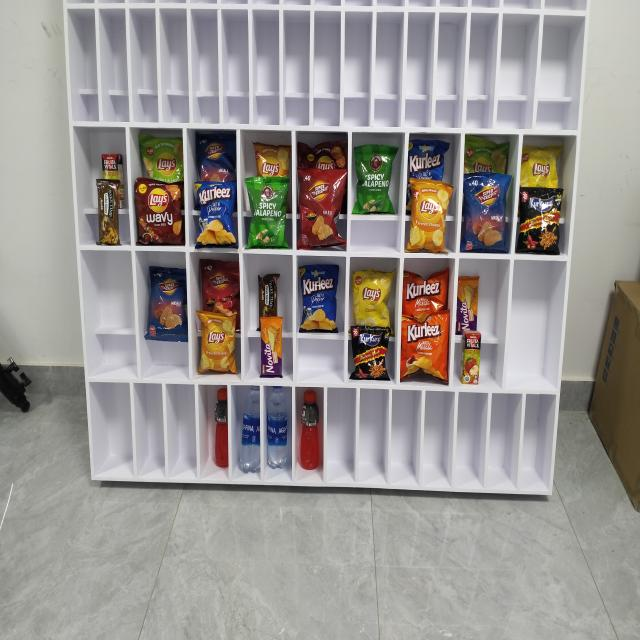Plastic: (299, 168, 347, 250), (464, 175, 510, 251), (400, 312, 450, 381), (136, 178, 183, 247), (408, 176, 450, 253), (246, 175, 290, 248), (145, 264, 188, 336), (519, 187, 562, 256), (354, 146, 394, 214), (196, 182, 236, 249), (198, 310, 238, 376), (302, 263, 339, 331), (352, 270, 392, 326), (351, 327, 392, 380), (200, 258, 240, 310), (195, 132, 235, 183), (266, 386, 290, 468), (404, 275, 452, 315), (140, 132, 181, 178), (464, 138, 512, 176), (96, 178, 122, 246), (300, 390, 322, 470), (240, 386, 260, 474), (408, 139, 451, 179), (260, 314, 284, 378), (523, 147, 561, 187), (298, 141, 348, 169), (254, 140, 292, 173), (458, 277, 480, 332), (214, 388, 228, 469), (258, 272, 280, 318), (463, 330, 481, 386), (101, 152, 122, 179)
